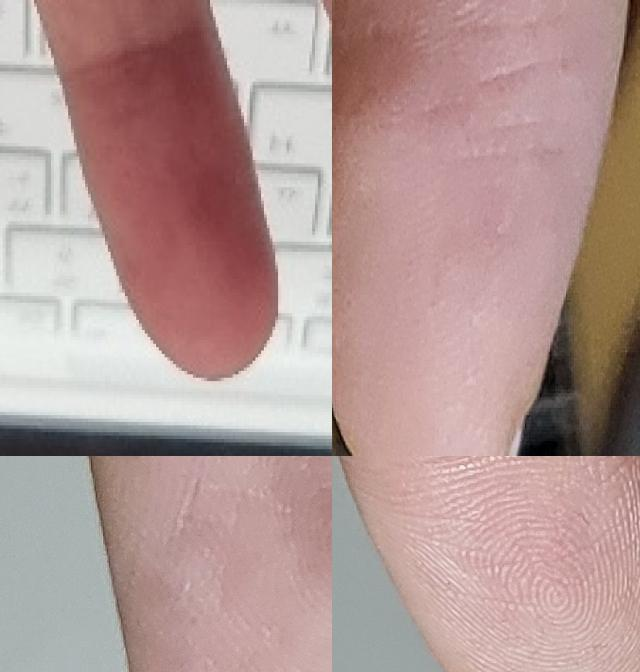Fingerprints: (332, 1, 629, 455), (60, 20, 279, 381), (339, 456, 640, 672), (105, 456, 332, 672)
